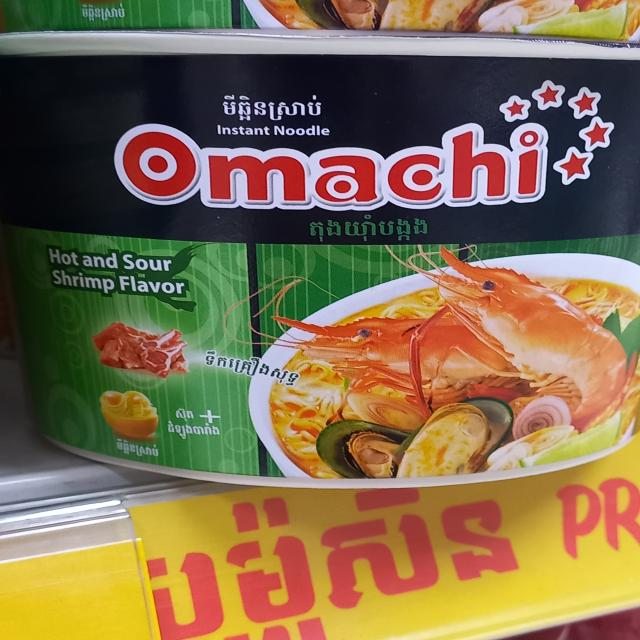Yolov11_80vkh: (310, 475, 536, 618), (199, 344, 304, 394), (216, 84, 328, 125), (304, 213, 439, 243), (163, 419, 222, 447), (111, 434, 164, 459), (173, 405, 199, 422)
